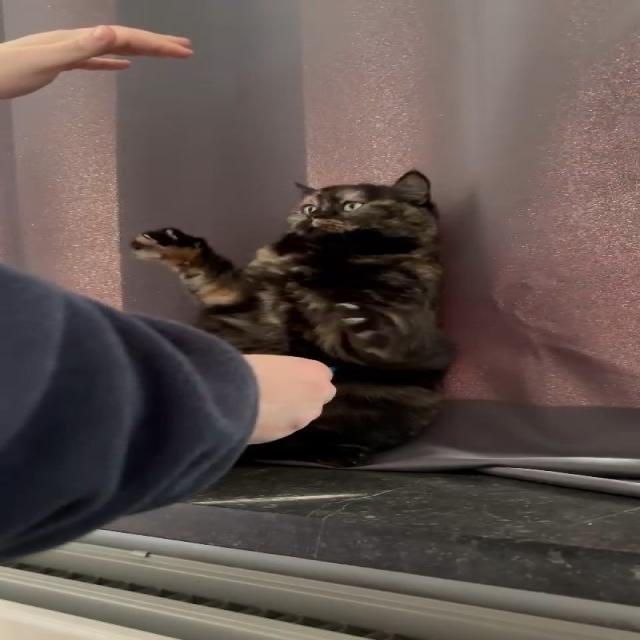authorized: (128, 168, 456, 468)
